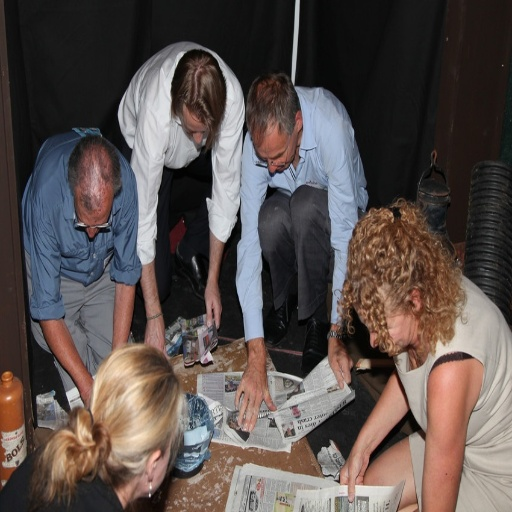hand: (233, 324, 278, 439), (337, 446, 368, 504), (327, 329, 354, 392), (143, 314, 171, 361), (202, 279, 223, 330)
